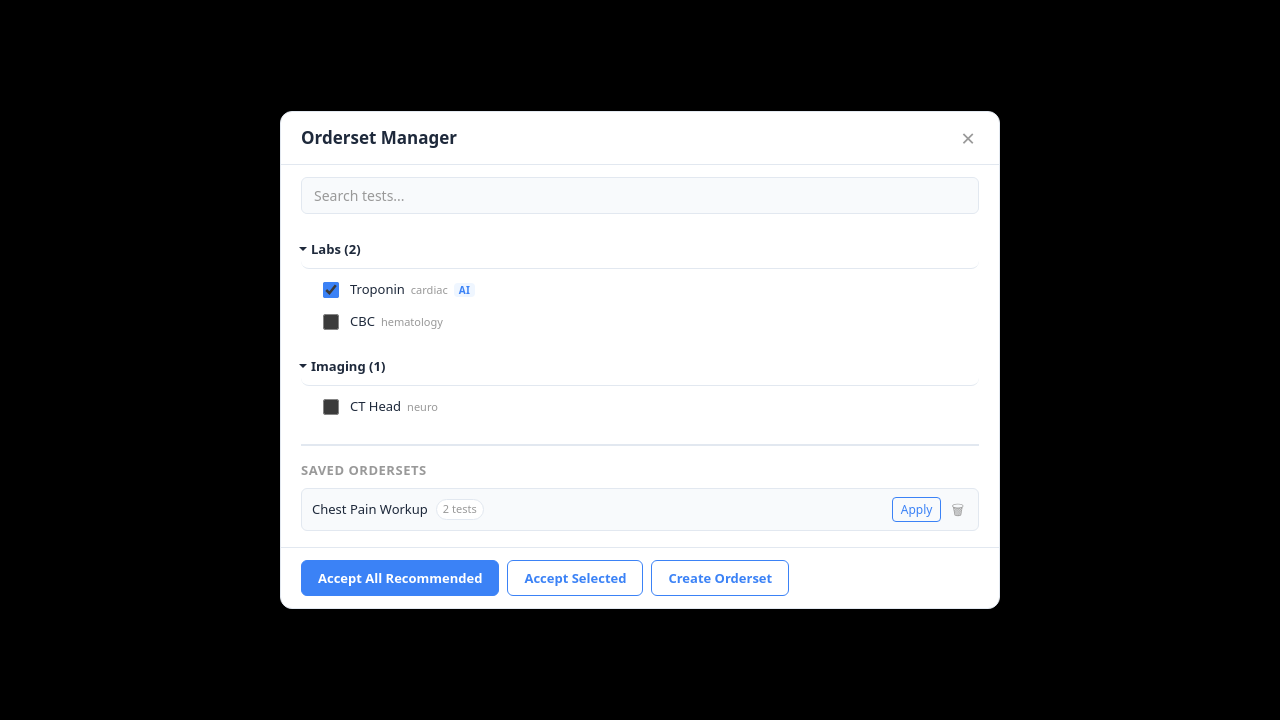
OrdersetManager › opens create form on "Create Orderset" click
The width and height of the screenshot is (1280, 720).
Click the button "Create Orderset" at (720, 578), box [651,560,789,596]
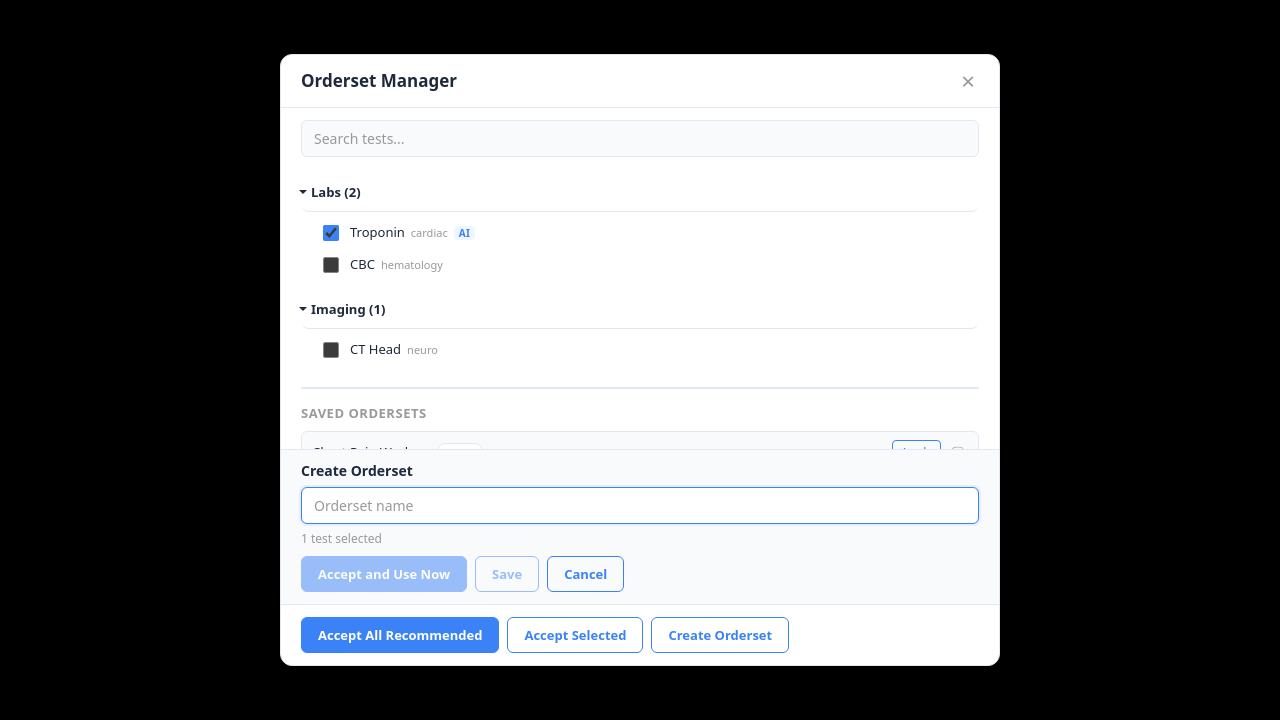
Expected: the heading "Create Orderset" is shown, [301,460,413,480]
Expected: the field with placeholder "Orderset name" is shown, [301,487,979,524]
